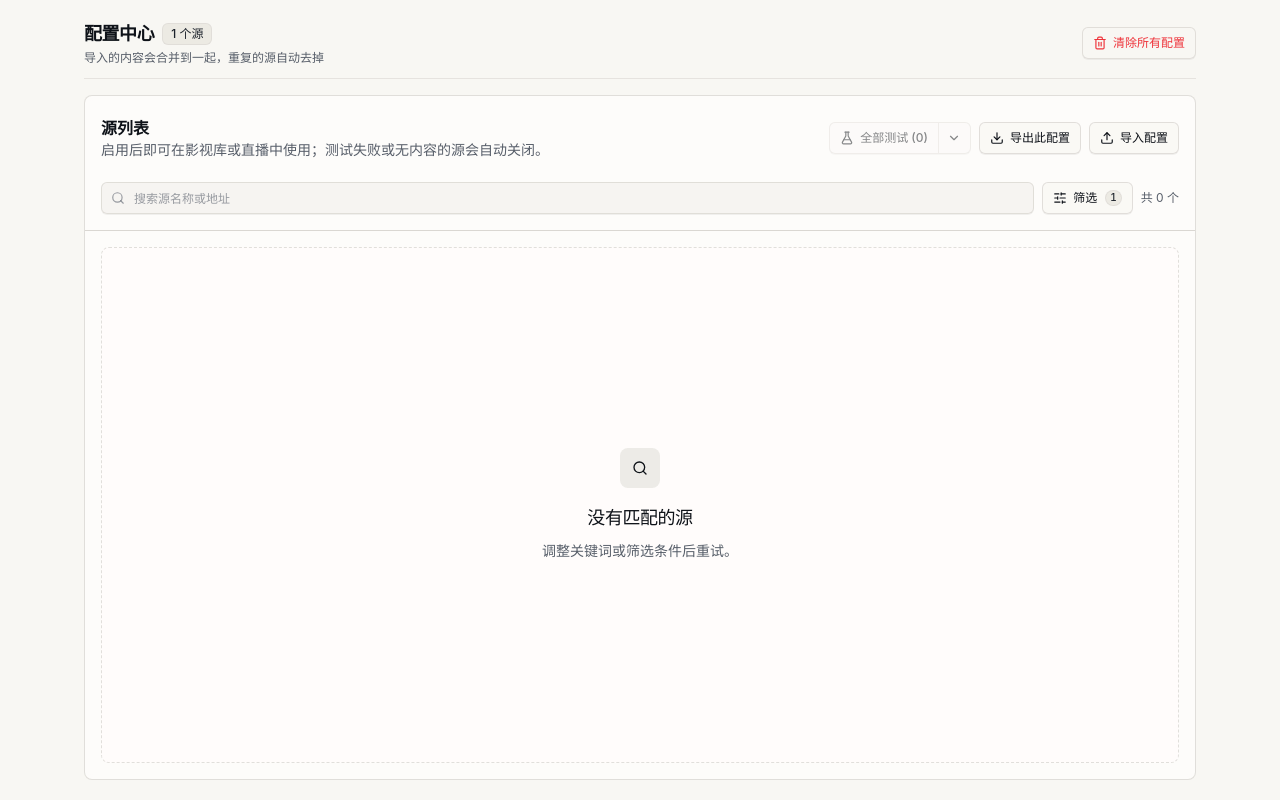
Test: config center › names the record, not the adapter, when a configuration is invalid
The width and height of the screenshot is (1280, 800).
Click the button "筛选 1": (1087, 198) [1042,182,1133,214]
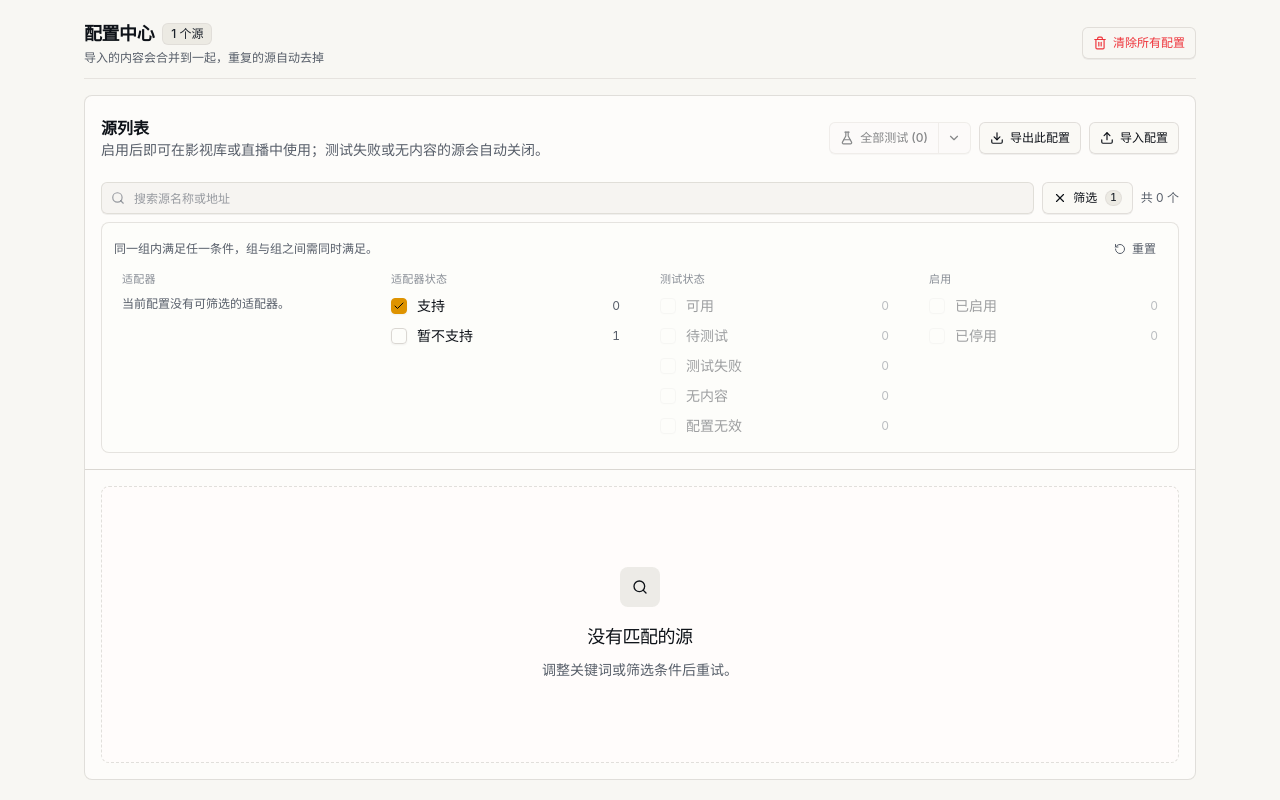
Click the button "重置": (1135, 249) [1104,235,1166,263]
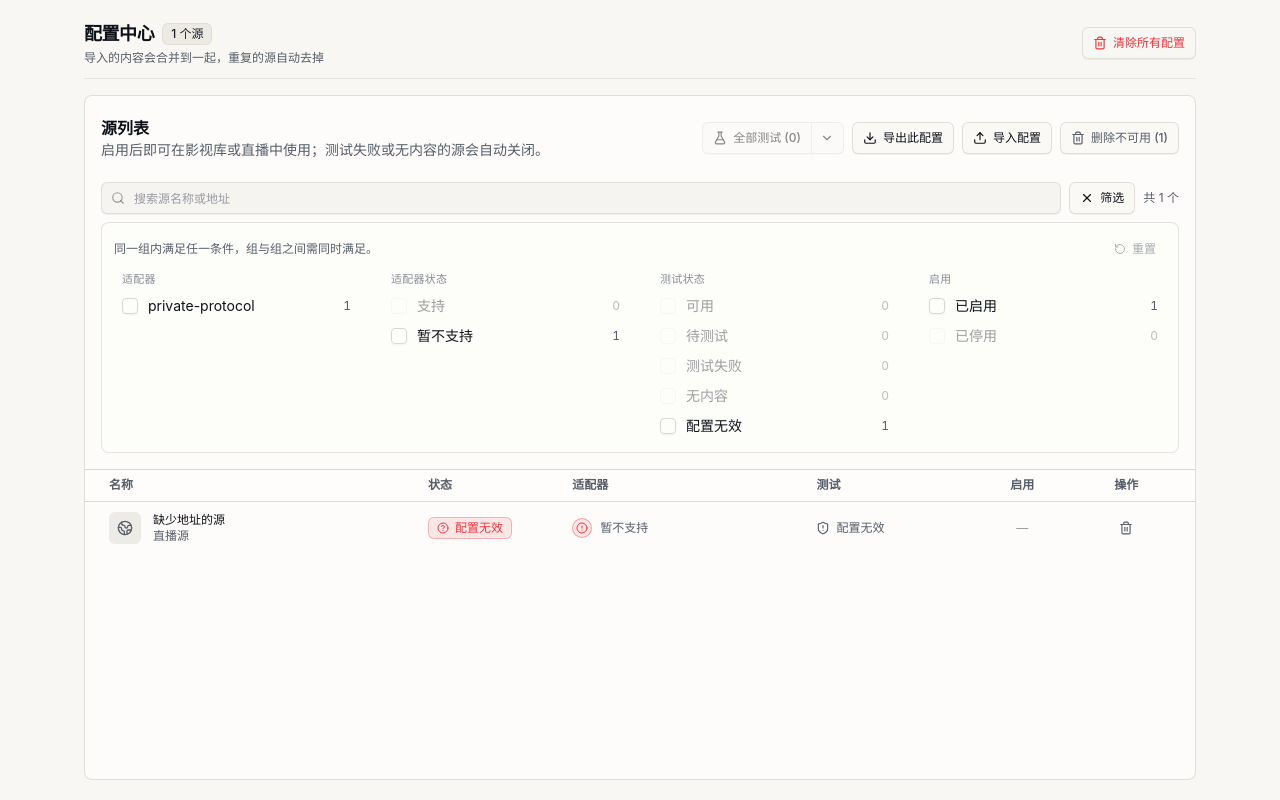
Result: the row "缺少地址的源 直播源 配置无效 暂不支持 配置无效 —" is shown at [85,502,1195,554]
